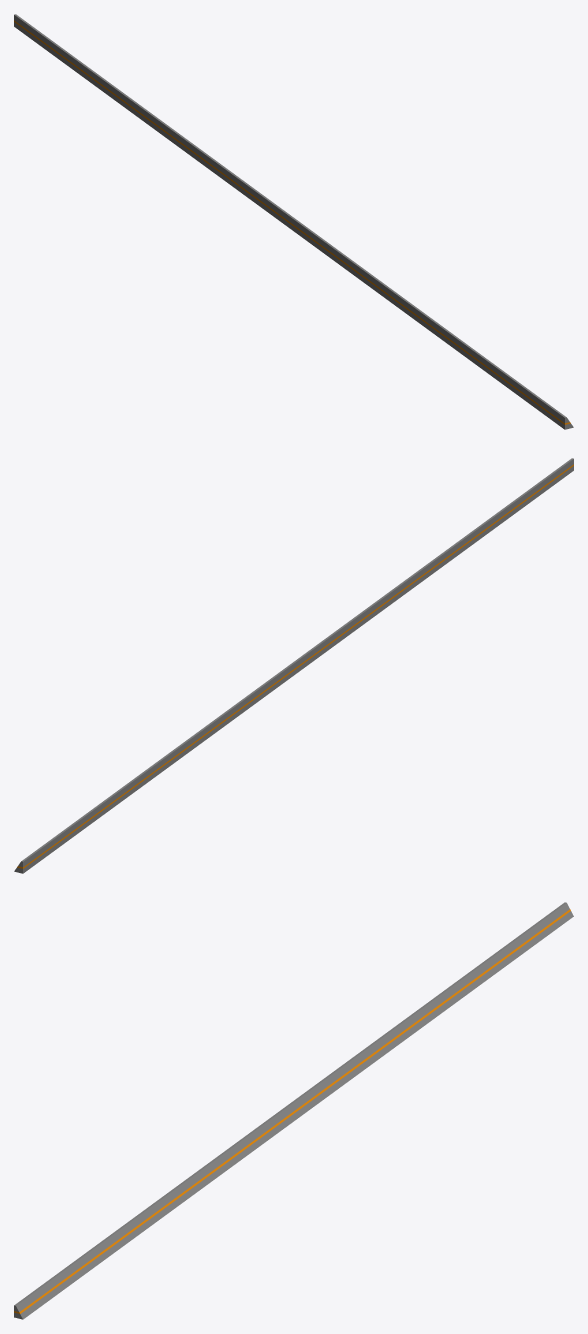
Rendered from MapWallBorder.fbx.
3 views of the same model, one above another, from view 1: azimuth 30°, elevation 25°; view 2: azimuth 150°, elevation 25°; view 3: azimuth 330°, elevation 25° (orthographic).
Visible parts, largest first — view 1: WallBorder; view 2: WallBorder; view 3: WallBorder.
Boxes of the visible parts, x1,y1,x2,y2 form: WallBorder: (14,14,573,429); WallBorder: (14,458,573,873); WallBorder: (14,902,573,1319).
Size of the model in its own units: 38.37 by 47.85 by 4000.
